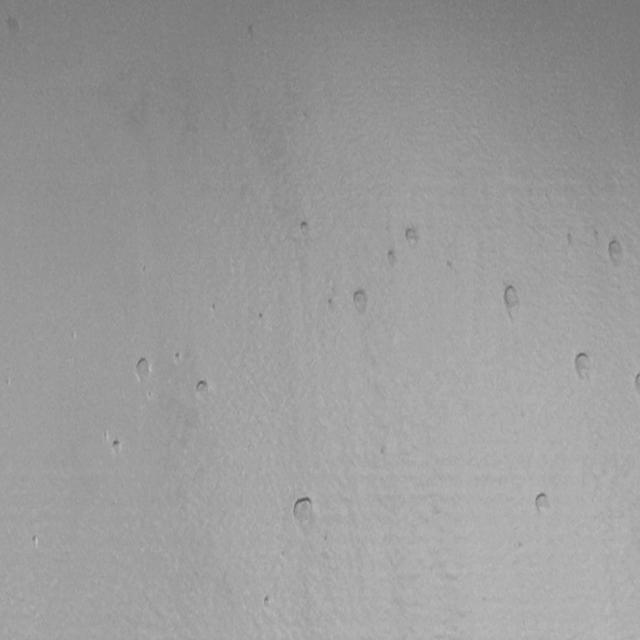pin holes: (290, 493, 318, 531), (603, 236, 630, 272), (499, 280, 524, 317), (572, 351, 596, 385), (351, 287, 374, 315), (531, 489, 553, 518), (133, 354, 154, 382), (4, 13, 23, 39), (402, 225, 422, 248), (384, 248, 403, 270), (193, 378, 212, 398), (563, 229, 579, 251), (112, 437, 128, 457), (298, 219, 313, 238), (28, 535, 42, 552), (262, 592, 275, 610), (377, 442, 388, 463), (444, 259, 458, 275), (209, 300, 221, 316), (144, 386, 156, 402), (326, 296, 337, 313), (172, 351, 184, 366), (630, 372, 639, 392), (257, 309, 268, 324)
